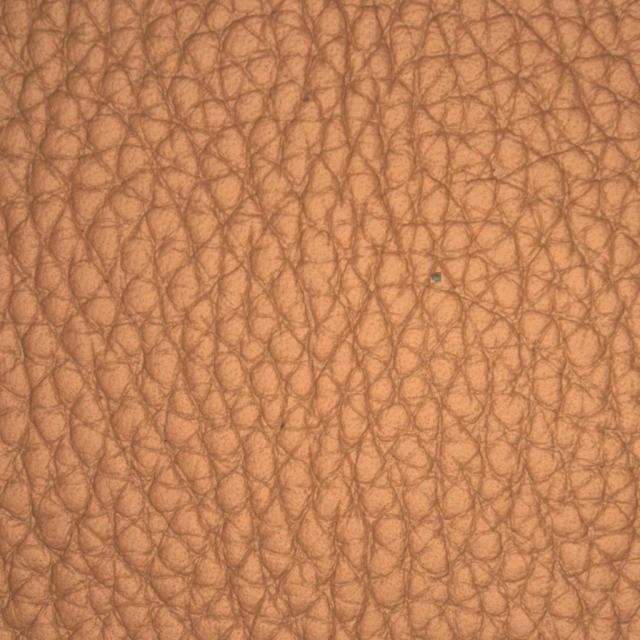pinhole: (356, 229, 523, 333)
